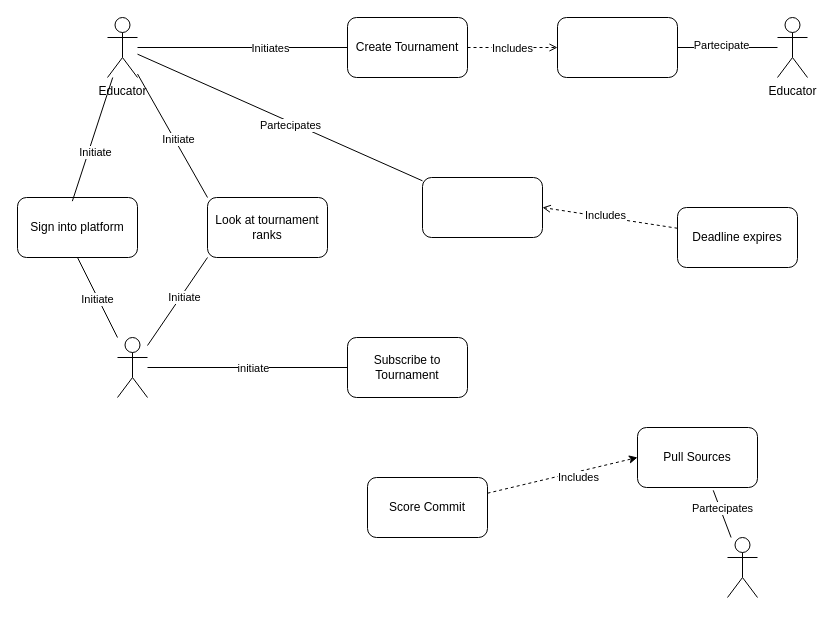
Some shapes in this 834 by 636 pixel diagram are drawn without their labels. Here are the shapes that lost their labels. From the top down, the centre of each, then its label:
At [617,47]: "Add Collaborators".
At [482,207]: "Manual Evaluation".
At [132,367]: "Student".
At [742,567]: "Github".
